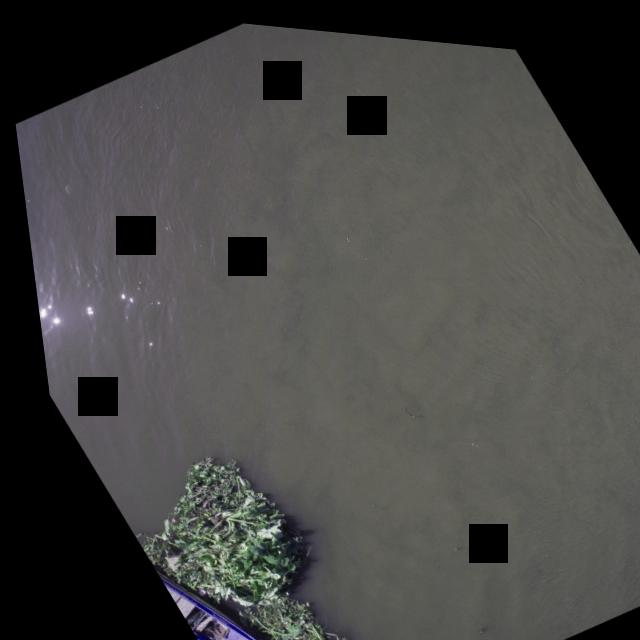plastic: (217, 466, 241, 490), (178, 581, 196, 597), (164, 526, 177, 537)
